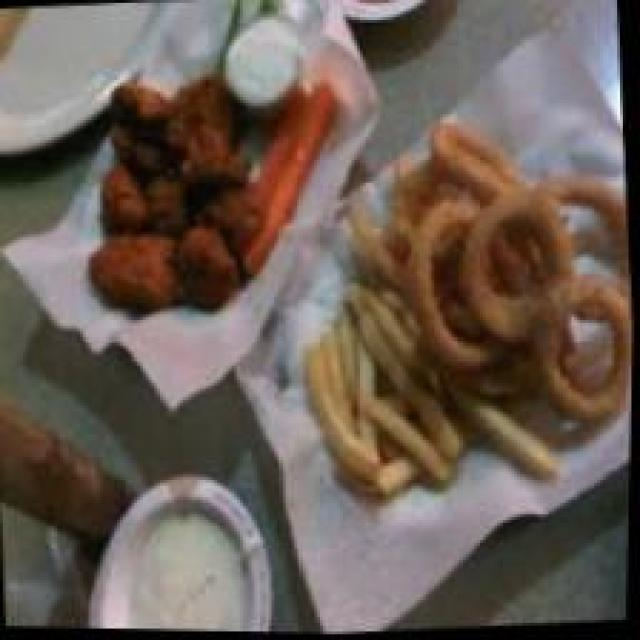Chicken Wings: (71, 60, 263, 326)
French Fries: (284, 180, 573, 534)
Onion Rings: (396, 97, 638, 434)
